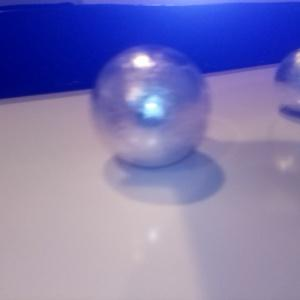alive_ball: (90, 44, 209, 168), (273, 49, 300, 112)
